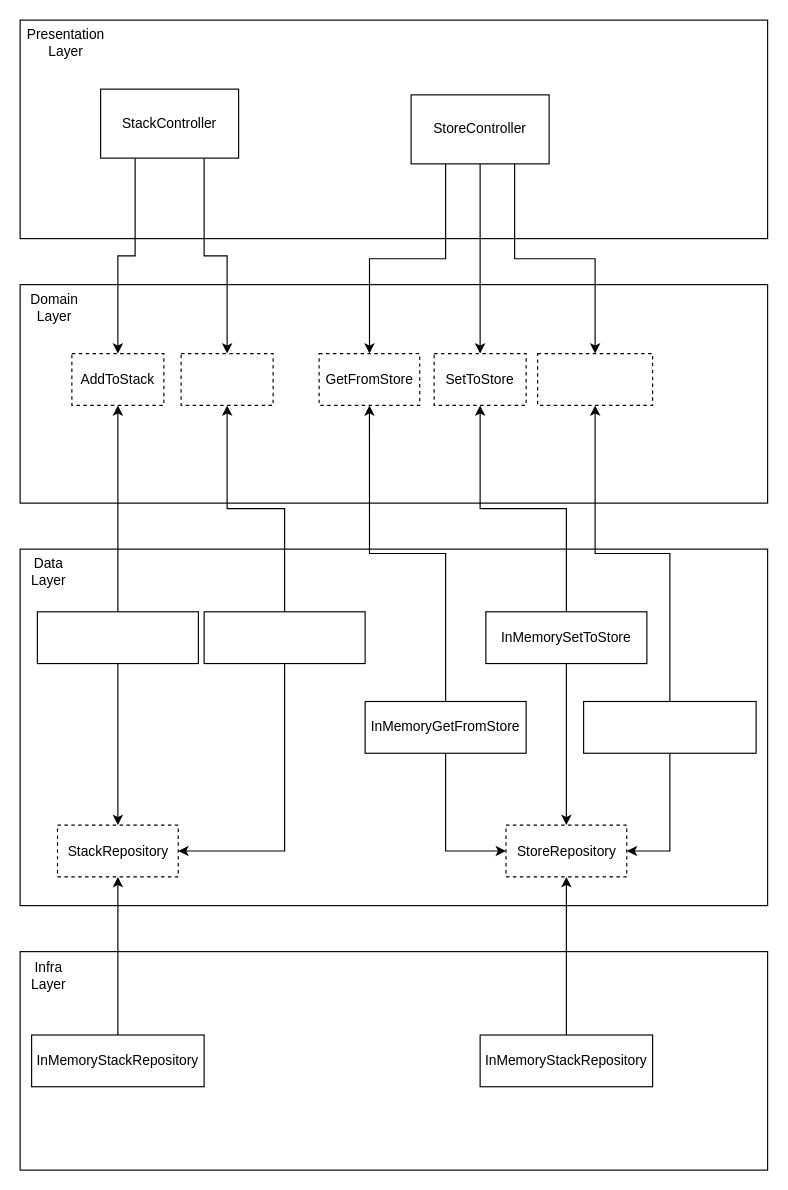
This 788x1190 diagram has some shape labels left out. The shapes that lost their labels are listed below. From the top down, each one's centre as x and y in pixels, then its label:
(x=226, y=378): GetFromStack
(x=594, y=378): DeleteFromStore
(x=117, y=637): InMemoryAddToStack
(x=284, y=637): InMemoryGetFromStack
(x=669, y=726): InMemoryDeleteFromStore
